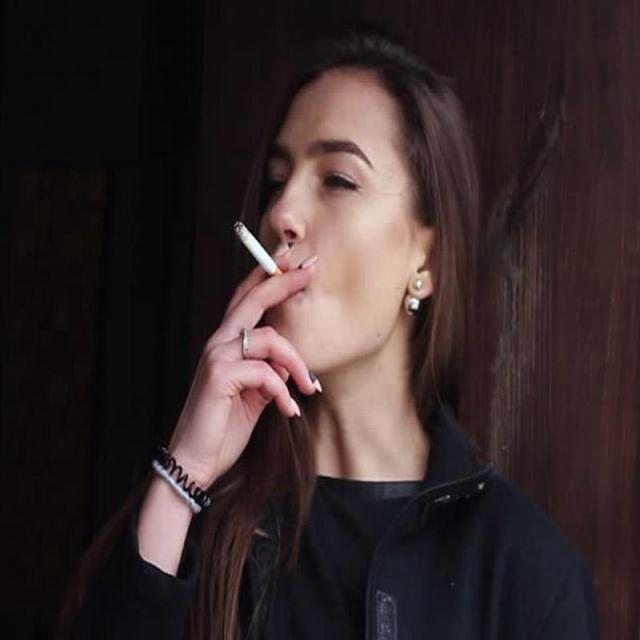cigarette: (232, 216, 294, 290)
